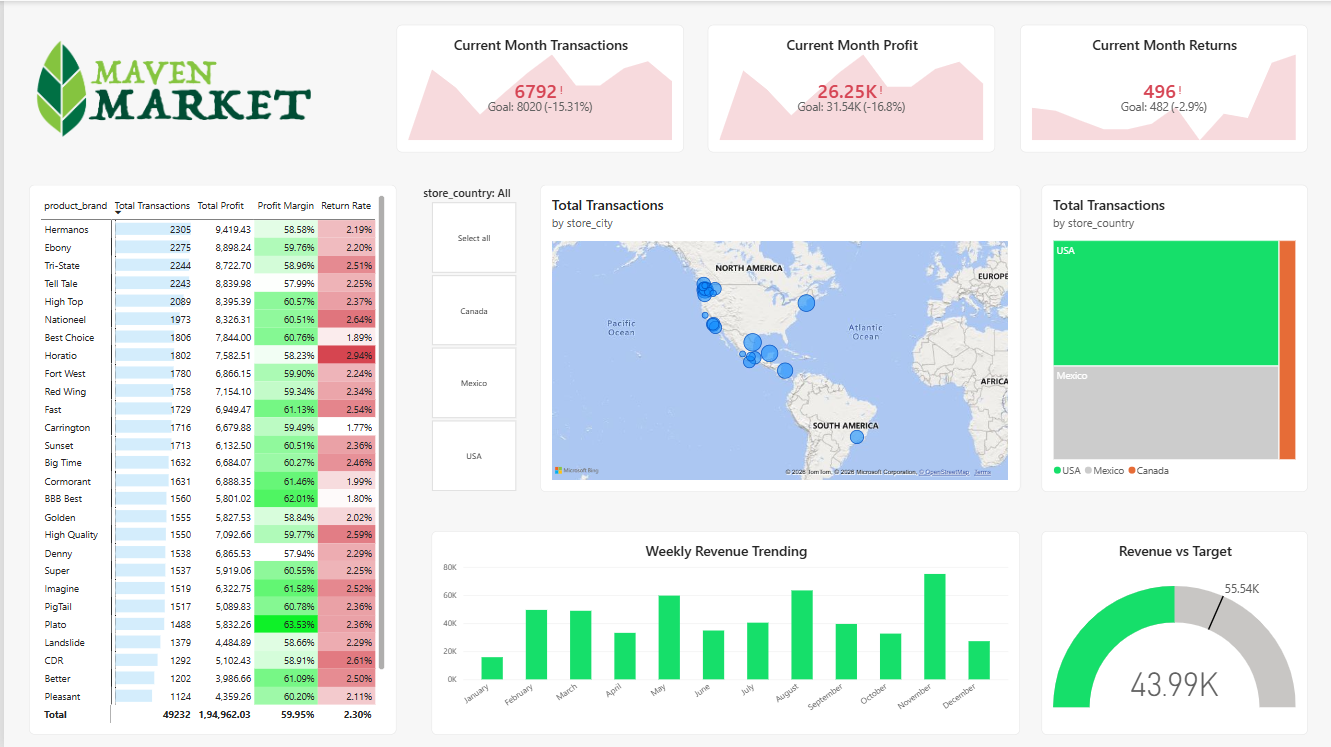

This screenshot's page, from the dashboard's own definition file:
{"tool":"powerbi","page":{"name":"Topline Performance","canvas":[1920,1080],"ordinal":0},"visuals":[{"type":"image","box":[36.2,34.4,416.2,184.6],"z":0},{"type":"pivotTable","fields":{"Rows":["Products.product_brand"],"Values":["Measures (3).Total Transactions","Measures (3).Total Profit","Measures (3).Profit Margin","Measures (3).Return Rate"]},"box":[36.2,266,532,796.3],"z":1},{"type":"kpi","title":"Current Month Transactions","fields":{"Goal":["Measures (3).Last Month Transactions"],"Indicator":["Measures (3).Total Transactions"],"TrendLine":["Calendar.Start of Month"]},"box":[568.2,34.4,416.2,184.6],"z":2},{"type":"kpi","title":"Current Month Profit","fields":{"Goal":["Measures (3).Last Month Profit"],"Indicator":["Measures (3).Total Profit"],"TrendLine":["Calendar.Start of Month"]},"box":[1018.8,34.4,416.2,184.6],"z":3},{"type":"kpi","title":"Current Month Returns","fields":{"Goal":["Measures (3).Last Month Returns"],"Indicator":["Measures (3).Total Returns"],"TrendLine":["Calendar.Start of Month"]},"box":[1471.3,34.4,416.2,184.6],"z":4},{"type":"slicer","fields":{"Values":["Stores.store_country"]},"box":[599,266,161.1,445.2],"z":5},{"type":"map","fields":{"Category":["Stores.store_city"],"Size":["Measures (3).Total Transactions"]},"box":[776.3,266,694.9,445.2],"z":6},{"type":"treemap","fields":{"Group":["Stores.store_country","Stores.store_state","Stores.store_city"],"Values":["Measures (3).Total Transactions"]},"box":[1502,266,385.5,445.2],"z":7},{"type":"columnChart","title":"Weekly Revenue Trending","fields":{"Category":["Calendar.Start of Week.Variation.Date Hierarchy.Year","Calendar.Start of Week.Variation.Date Hierarchy.Quarter","Calendar.Start of Week.Variation.Date Hierarchy.Month","Calendar.Start of Week.Variation.Date Hierarchy.Day"],"Y":["Measures (3).Total Revenue"]},"box":[618.9,767.3,852.4,295],"z":8},{"type":"gauge","title":"Revenue vs Target","fields":{"TargetValue":["Measures (3).Revenue Target"],"Y":["Measures (3).Total Revenue"]},"box":[1502,767.3,385.5,295],"z":9}]}

Visuals, with their boxes in screenshot pixels (x1, y1, x2, y2), scaled from the page's 1920x1080 canvas onto the 1331x747 screenshot:
image: <region>25, 24, 314, 151</region>
pivotTable - Products.product_brand x Measures (3).Total Transactions: <region>25, 184, 394, 735</region>
"Current Month Transactions" kpi: <region>394, 24, 682, 151</region>
"Current Month Profit" kpi: <region>706, 24, 995, 151</region>
"Current Month Returns" kpi: <region>1020, 24, 1308, 151</region>
slicer - Stores.store_country: <region>415, 184, 527, 492</region>
map - Stores.store_city x Measures (3).Total Transactions: <region>538, 184, 1020, 492</region>
treemap - Stores.store_country x Stores.store_state: <region>1041, 184, 1308, 492</region>
"Weekly Revenue Trending" columnChart: <region>429, 531, 1020, 735</region>
"Revenue vs Target" gauge: <region>1041, 531, 1308, 735</region>
